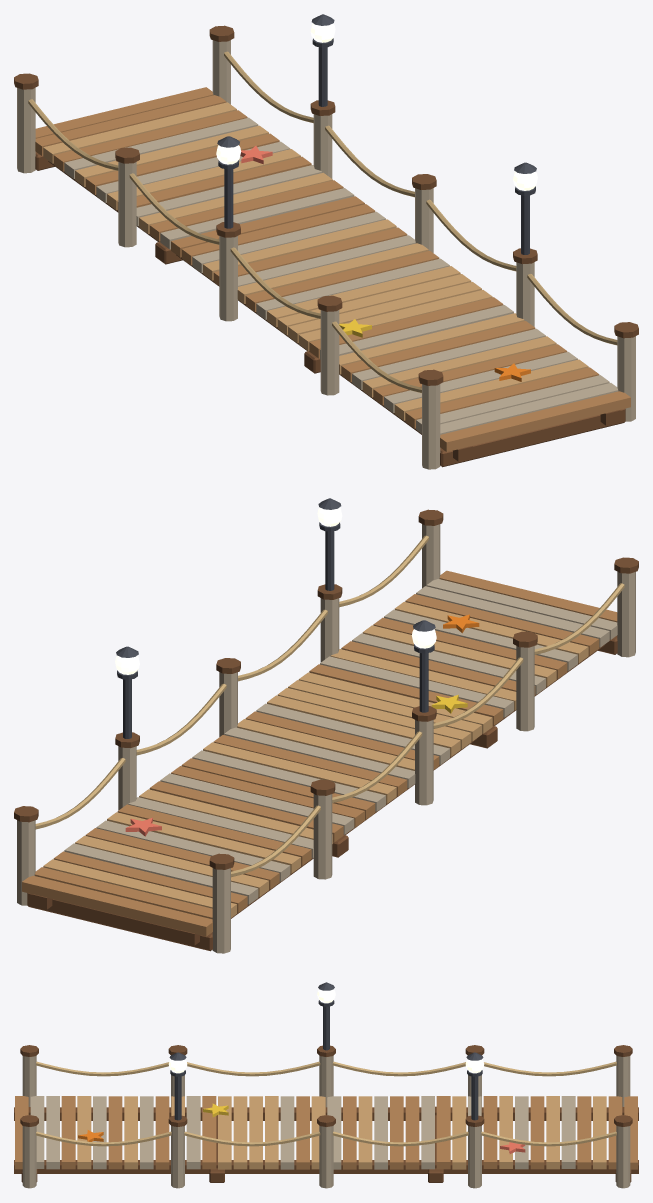
Rendered from Boardwalk.fbx.
3 views of the same model, one above another, from view 1: azimuth 30°, elevation 25°; view 2: azimuth 150°, elevation 25°; view 3: azimuth 270°, elevation 25° (orthographic). The views are drawn at different scales.
Parts seen in each view (by area): view 1: Boardwalk_Driftwood, Boardwalk_Plank, Boardwalk_WoodLight, Boardwalk_WoodDark, Boardwalk_Rope, Boardwalk_DarkMetal, Boardwalk_WindowGlow; view 2: Boardwalk_Driftwood, Boardwalk_Plank, Boardwalk_WoodLight, Boardwalk_WoodDark, Boardwalk_Rope, Boardwalk_DarkMetal, Boardwalk_WindowGlow; view 3: Boardwalk_Driftwood, Boardwalk_Plank, Boardwalk_WoodLight, Boardwalk_WoodDark, Boardwalk_Rope, Boardwalk_DarkMetal, Boardwalk_WindowGlow.
Part boxes in pixels (bbox=[...]): Boardwalk_Driftwood: bbox=[17, 40, 635, 469]; Boardwalk_Plank: bbox=[35, 87, 630, 451]; Boardwalk_WoodLight: bbox=[43, 102, 588, 420]; Boardwalk_WoodDark: bbox=[14, 25, 638, 467]; Boardwalk_Rope: bbox=[28, 51, 617, 393]; Boardwalk_DarkMetal: bbox=[217, 14, 536, 254]; Boardwalk_WindowGlow: bbox=[216, 23, 537, 190]; Boardwalk_Driftwood: bbox=[17, 524, 635, 953]; Boardwalk_Plank: bbox=[22, 570, 617, 936]; Boardwalk_WoodLight: bbox=[43, 601, 588, 917]; Boardwalk_WoodDark: bbox=[14, 509, 638, 951]; Boardwalk_Rope: bbox=[35, 535, 624, 877]; Boardwalk_DarkMetal: bbox=[116, 498, 435, 738]; Boardwalk_WindowGlow: bbox=[115, 507, 436, 674]; Boardwalk_Driftwood: bbox=[22, 1056, 630, 1188]; Boardwalk_Plank: bbox=[15, 1096, 637, 1169]; Boardwalk_WoodLight: bbox=[77, 1096, 606, 1169]; Boardwalk_WoodDark: bbox=[14, 1045, 638, 1182]; Boardwalk_Rope: bbox=[36, 1061, 616, 1146]; Boardwalk_DarkMetal: bbox=[169, 982, 483, 1120]; Boardwalk_WindowGlow: bbox=[168, 989, 484, 1073].
Bounding box in the file's own units: 11.8 × 9.35 × 40.
